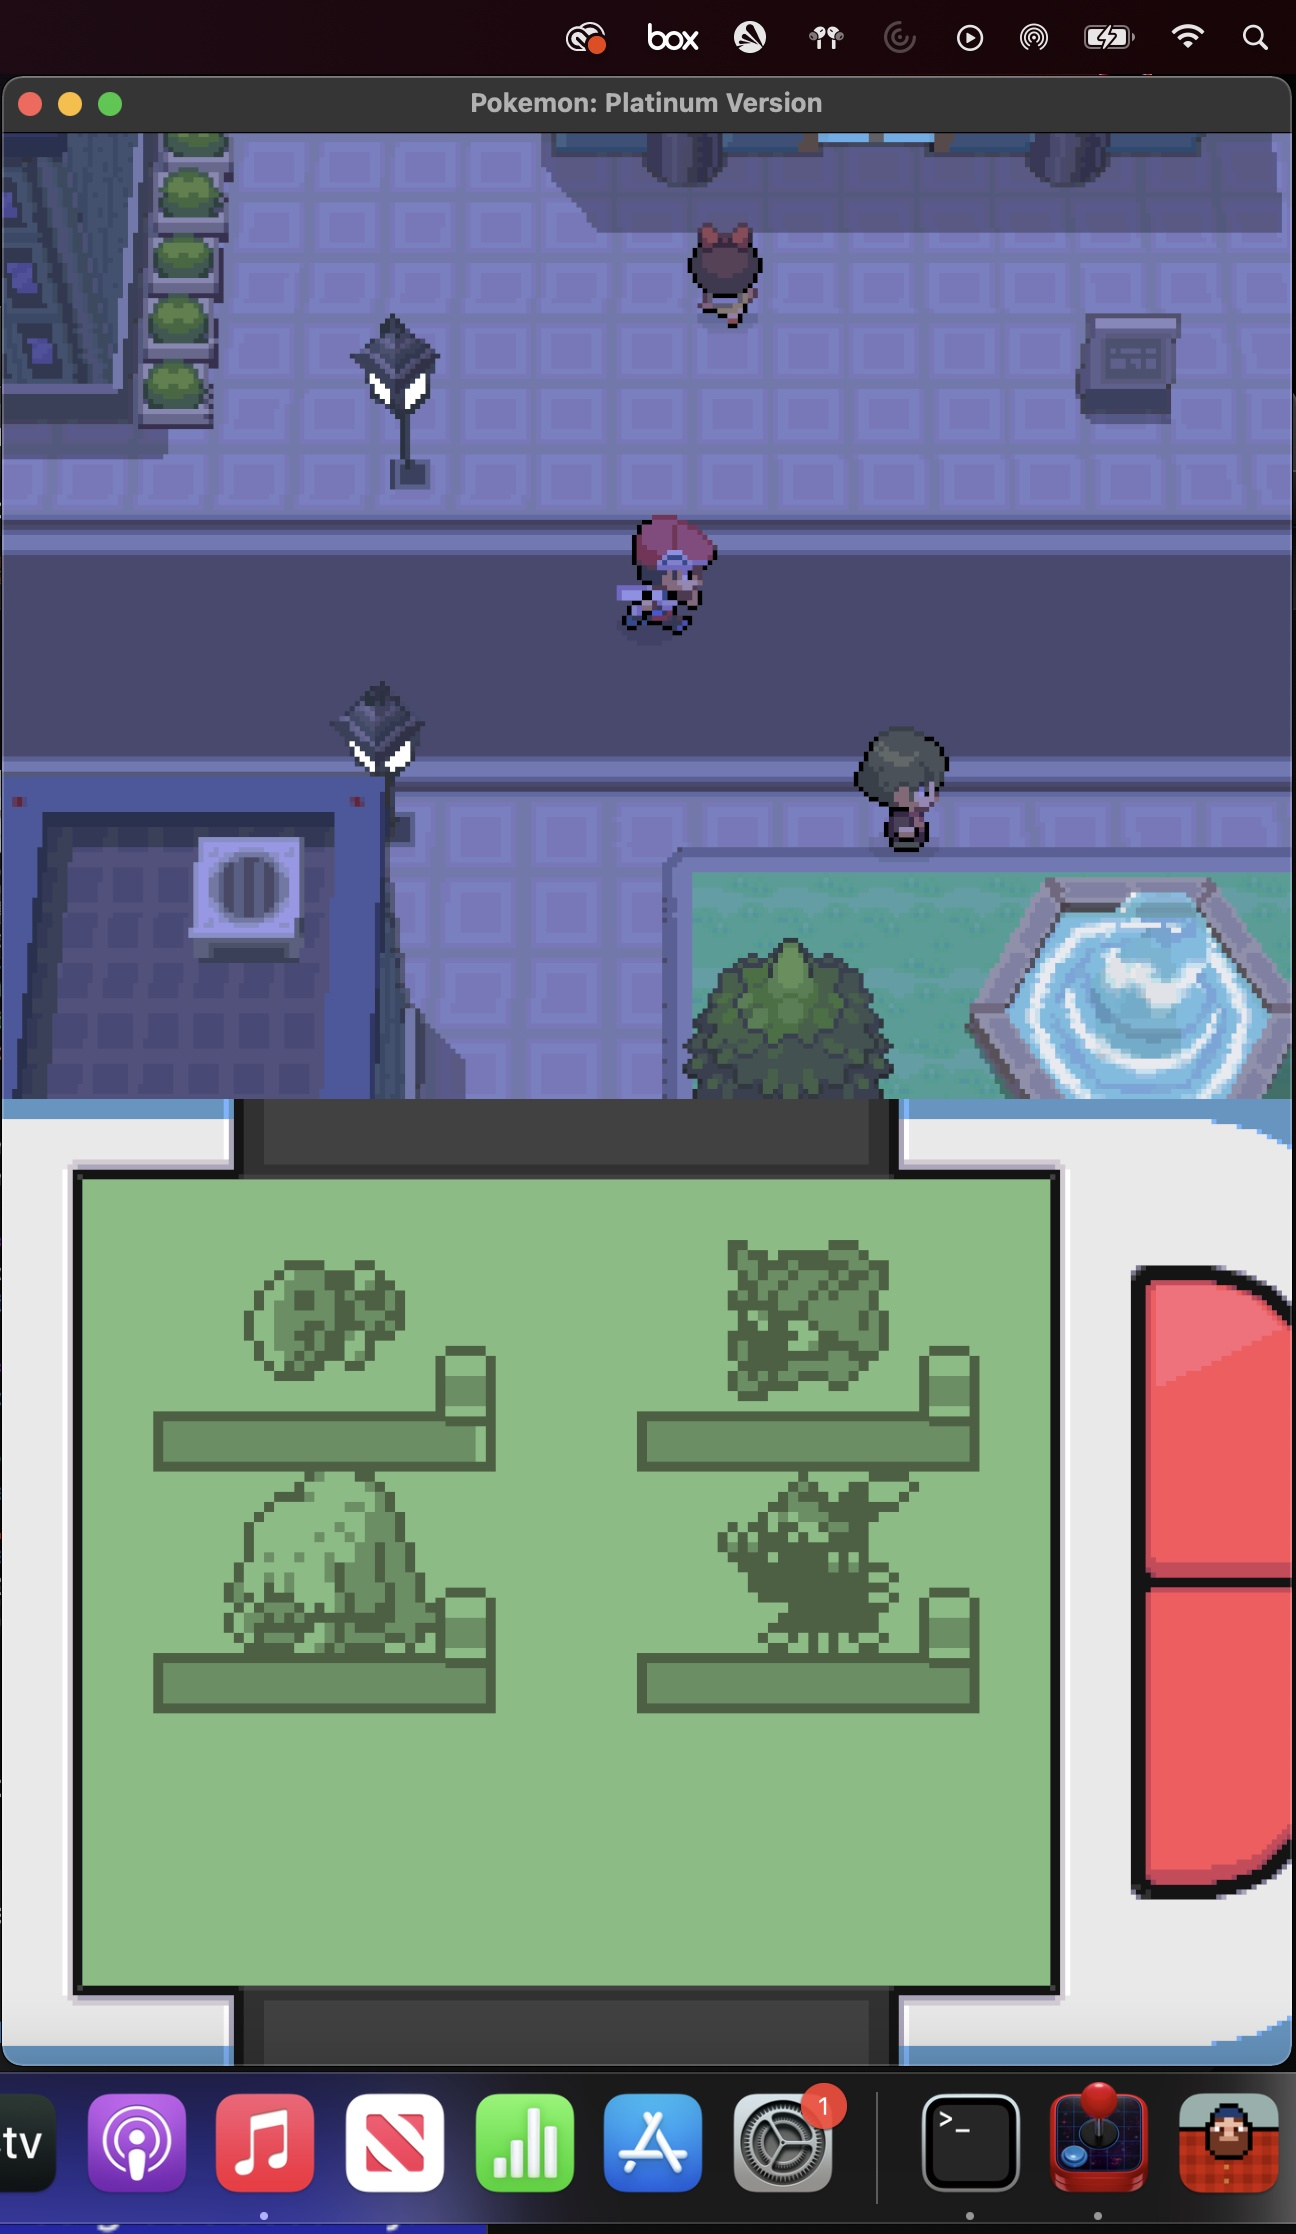player: (589, 495, 731, 654)
